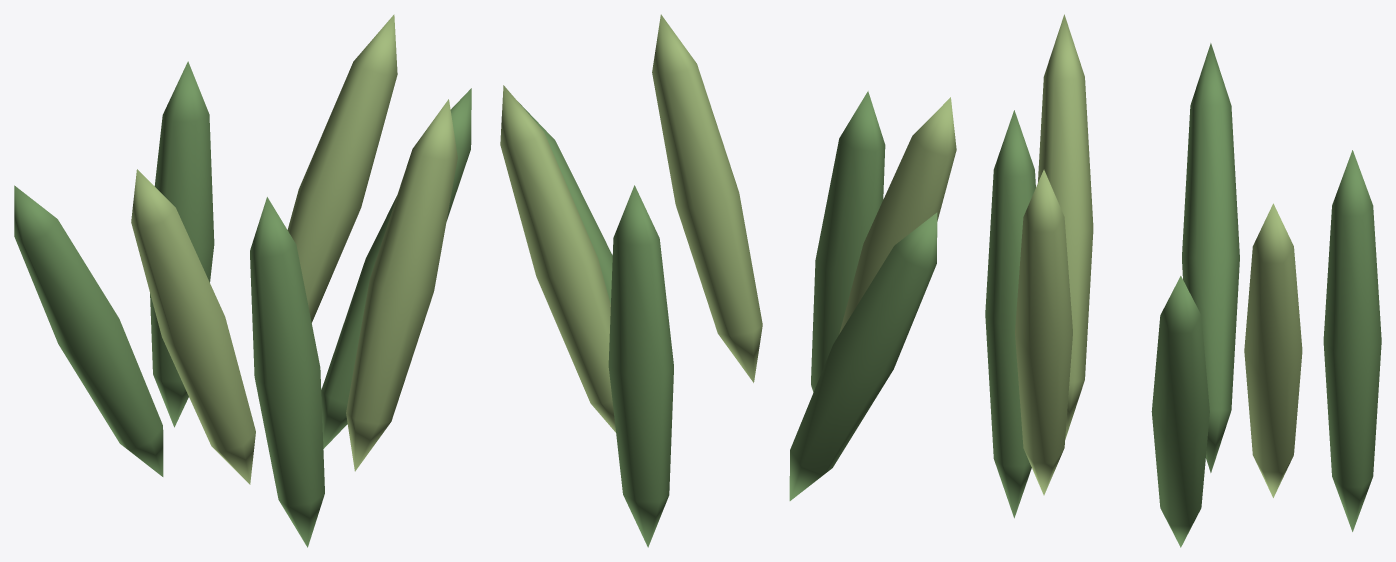
File: grass.glb
3 views of the same model, side by side, from view 1: azimuth 30°, elevation 25°; view 2: azimuth 150°, elevation 25°; view 3: azimuth 270°, elevation 25° (orthographic). The views are drawn at different scales.
Visible parts, largest first — view 1: grass_World_Mesh; view 2: grass_World_Mesh; view 3: grass_World_Mesh.
Boxes of the visible parts, x1,y1,x2,y2 form: grass_World_Mesh: (14,14,471,547); grass_World_Mesh: (500,14,956,547); grass_World_Mesh: (985,14,1381,547).
Size of the model in its own units: 0.5101 by 0.4424 by 0.3679.
